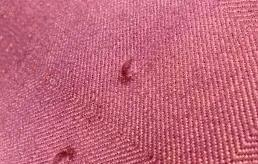knot: (118, 57, 139, 86), (52, 145, 78, 164)
